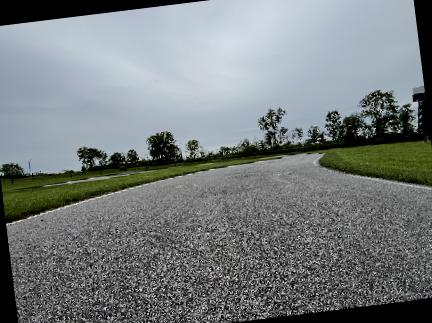Grass: (2, 157, 274, 223), (1, 155, 269, 192), (320, 141, 431, 185)
Lane: (6, 154, 431, 322)
